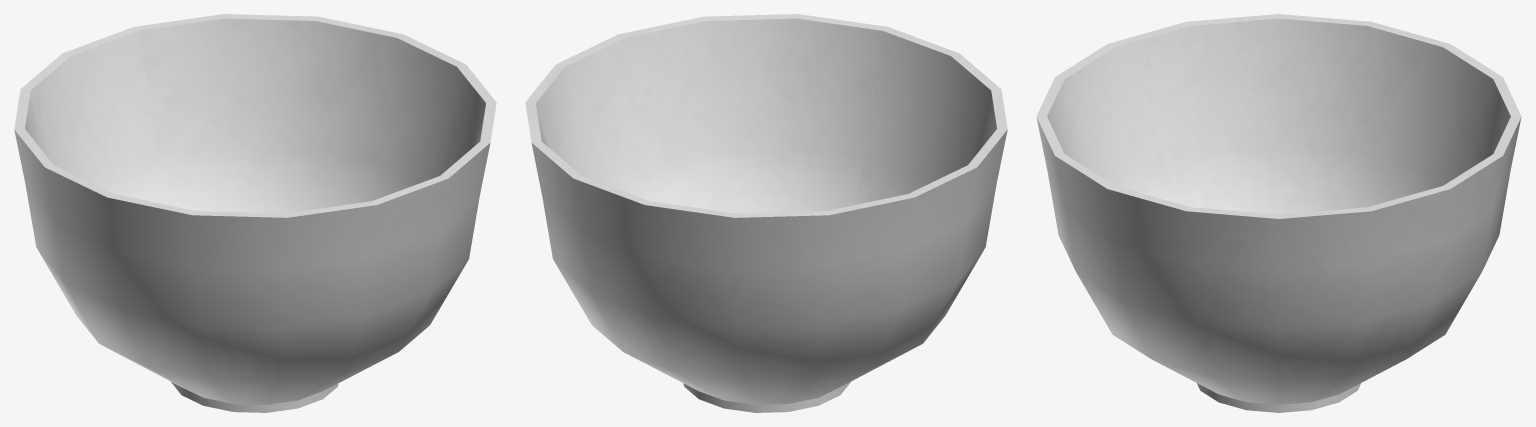
File: BowlSmall.fbx
3 renders of one model, left to right at view 1: azimuth 30°, elevation 25°; view 2: azimuth 150°, elevation 25°; view 3: azimuth 270°, elevation 25°, orthographic.
Visible parts, largest first — view 1: BowlSmall.002; view 2: BowlSmall.002; view 3: BowlSmall.002.
Part boxes in pixels (<box>): BowlSmall.002: <box>14,14,496,412</box>; BowlSmall.002: <box>525,14,1007,412</box>; BowlSmall.002: <box>1036,14,1521,412</box>.
Bounding box in the file's own units: 0.1887 × 0.1887 × 0.1117.
